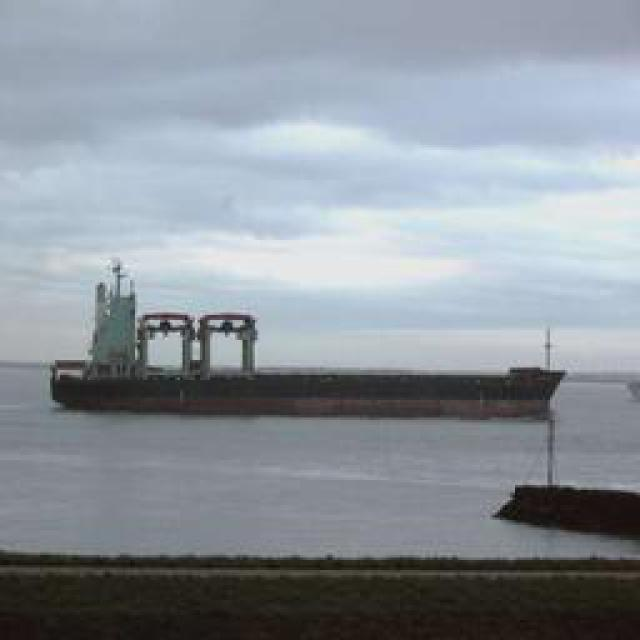Ship: (56, 262, 559, 420)
